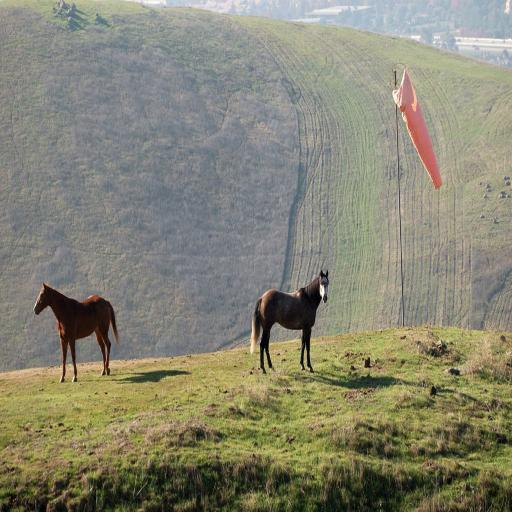horse: (31, 282, 121, 386), (248, 268, 331, 374)
